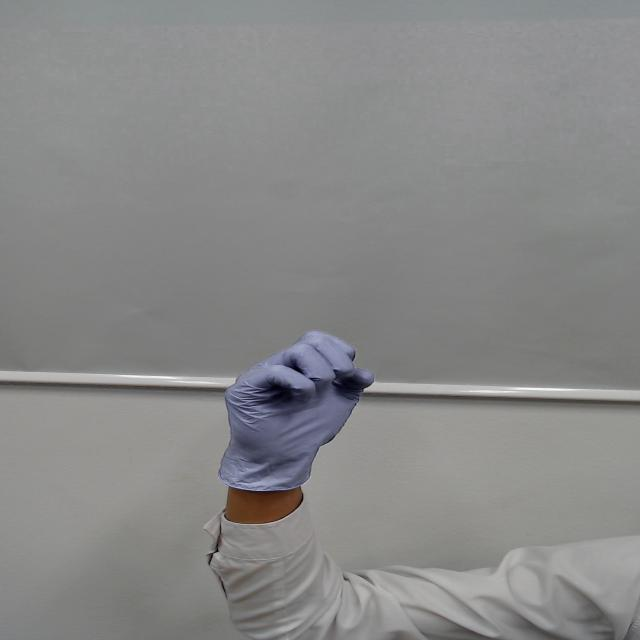glove: (208, 325, 377, 466)
